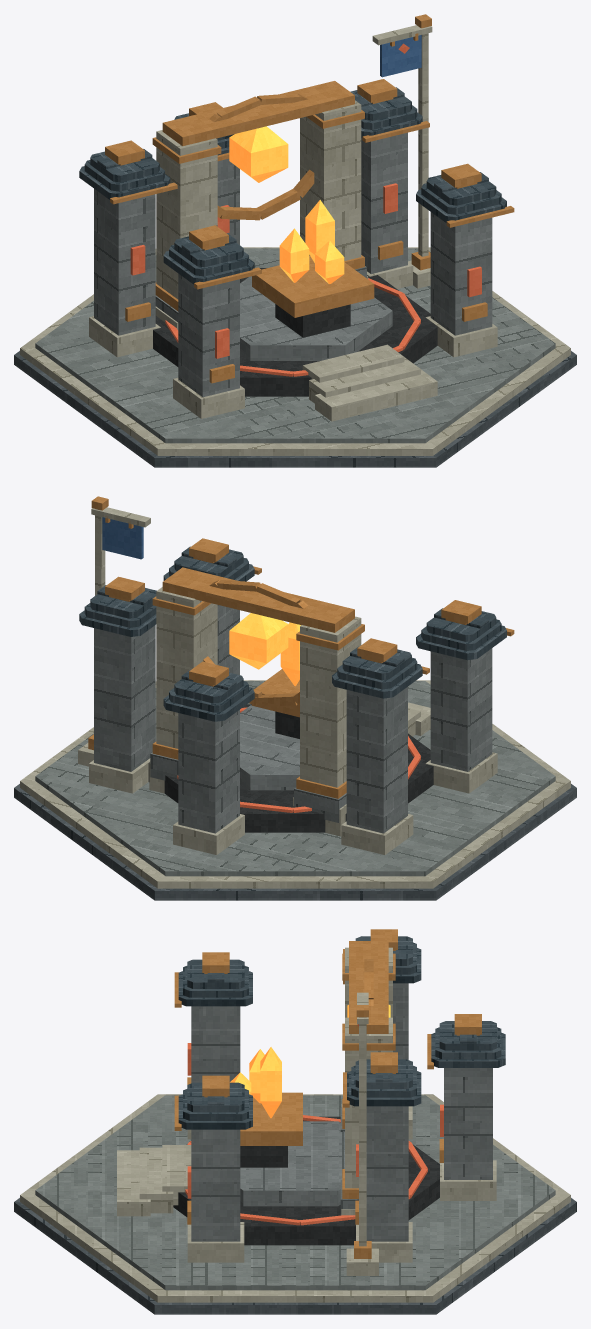
Rendered from dwarf_infernal_ritual_hex_v1.glb.
The picture shows the model from 3 angles, top to bottom: view 1: azimuth 30°, elevation 25°; view 2: azimuth 150°, elevation 25°; view 3: azimuth 270°, elevation 25°; orthographic projection.
Parts seen in each view (by area): view 1: Dwarf_Infernal_Ritual_Hex_V1_Hall, Dwarf_Infernal_Ritual_Hex_V1_Foundation, Dwarf_Infernal_Ritual_Hex_V1_Courtyard, Dwarf_Infernal_Ritual_Hex_V1_Focus, Dwarf_Infernal_Ritual_Hex_V1_Roofs, Dwarf_Infernal_Ritual_Hex_V1_Faction, Dwarf_Infernal_Ritual_Hex_V1_Details, Dwarf_Infernal_Ritual_Hex_V1_Training; view 2: Dwarf_Infernal_Ritual_Hex_V1_Hall, Dwarf_Infernal_Ritual_Hex_V1_Foundation, Dwarf_Infernal_Ritual_Hex_V1_Roofs, Dwarf_Infernal_Ritual_Hex_V1_Courtyard, Dwarf_Infernal_Ritual_Hex_V1_Focus, Dwarf_Infernal_Ritual_Hex_V1_Faction, Dwarf_Infernal_Ritual_Hex_V1_Training; view 3: Dwarf_Infernal_Ritual_Hex_V1_Foundation, Dwarf_Infernal_Ritual_Hex_V1_Hall, Dwarf_Infernal_Ritual_Hex_V1_Courtyard, Dwarf_Infernal_Ritual_Hex_V1_Roofs, Dwarf_Infernal_Ritual_Hex_V1_Focus, Dwarf_Infernal_Ritual_Hex_V1_Faction, Dwarf_Infernal_Ritual_Hex_V1_Training.
Boxes of the visible parts, box(x1,y1,x2,y2) form: Dwarf_Infernal_Ritual_Hex_V1_Hall: box(89, 81, 497, 418); Dwarf_Infernal_Ritual_Hex_V1_Foundation: box(14, 247, 576, 467); Dwarf_Infernal_Ritual_Hex_V1_Courtyard: box(153, 268, 437, 421); Dwarf_Infernal_Ritual_Hex_V1_Focus: box(130, 93, 481, 358); Dwarf_Infernal_Ritual_Hex_V1_Roofs: box(79, 79, 514, 289); Dwarf_Infernal_Ritual_Hex_V1_Faction: box(372, 14, 432, 288); Dwarf_Infernal_Ritual_Hex_V1_Details: box(125, 240, 487, 383); Dwarf_Infernal_Ritual_Hex_V1_Training: box(165, 278, 420, 376); Dwarf_Infernal_Ritual_Hex_V1_Hall: box(89, 567, 497, 854); Dwarf_Infernal_Ritual_Hex_V1_Foundation: box(14, 680, 576, 900); Dwarf_Infernal_Ritual_Hex_V1_Roofs: box(79, 538, 514, 721); Dwarf_Infernal_Ritual_Hex_V1_Courtyard: box(148, 702, 433, 832); Dwarf_Infernal_Ritual_Hex_V1_Focus: box(203, 580, 307, 738); Dwarf_Infernal_Ritual_Hex_V1_Faction: box(78, 496, 150, 766); Dwarf_Infernal_Ritual_Hex_V1_Training: box(177, 707, 420, 812); Dwarf_Infernal_Ritual_Hex_V1_Foundation: box(14, 1094, 576, 1314); Dwarf_Infernal_Ritual_Hex_V1_Hall: box(187, 941, 496, 1262); Dwarf_Infernal_Ritual_Hex_V1_Courtyard: box(117, 1116, 439, 1245); Dwarf_Infernal_Ritual_Hex_V1_Roofs: box(174, 929, 505, 1130); Dwarf_Infernal_Ritual_Hex_V1_Focus: box(187, 959, 443, 1198); Dwarf_Infernal_Ritual_Hex_V1_Faction: box(346, 992, 378, 1275); Dwarf_Infernal_Ritual_Hex_V1_Training: box(185, 1115, 427, 1225).
Bounding box in the file's own units: 1.59 × 1.02 × 1.84.
1 material, 1 textured.
